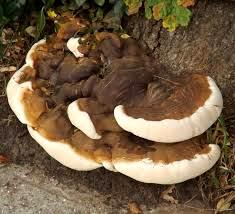Ganoderma - Fruit Body: (3, 32, 224, 187)
